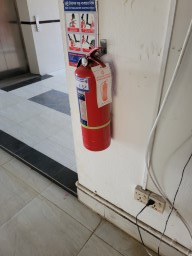fire_extinguisher: (30, 104, 114, 157), (41, 105, 114, 156)
